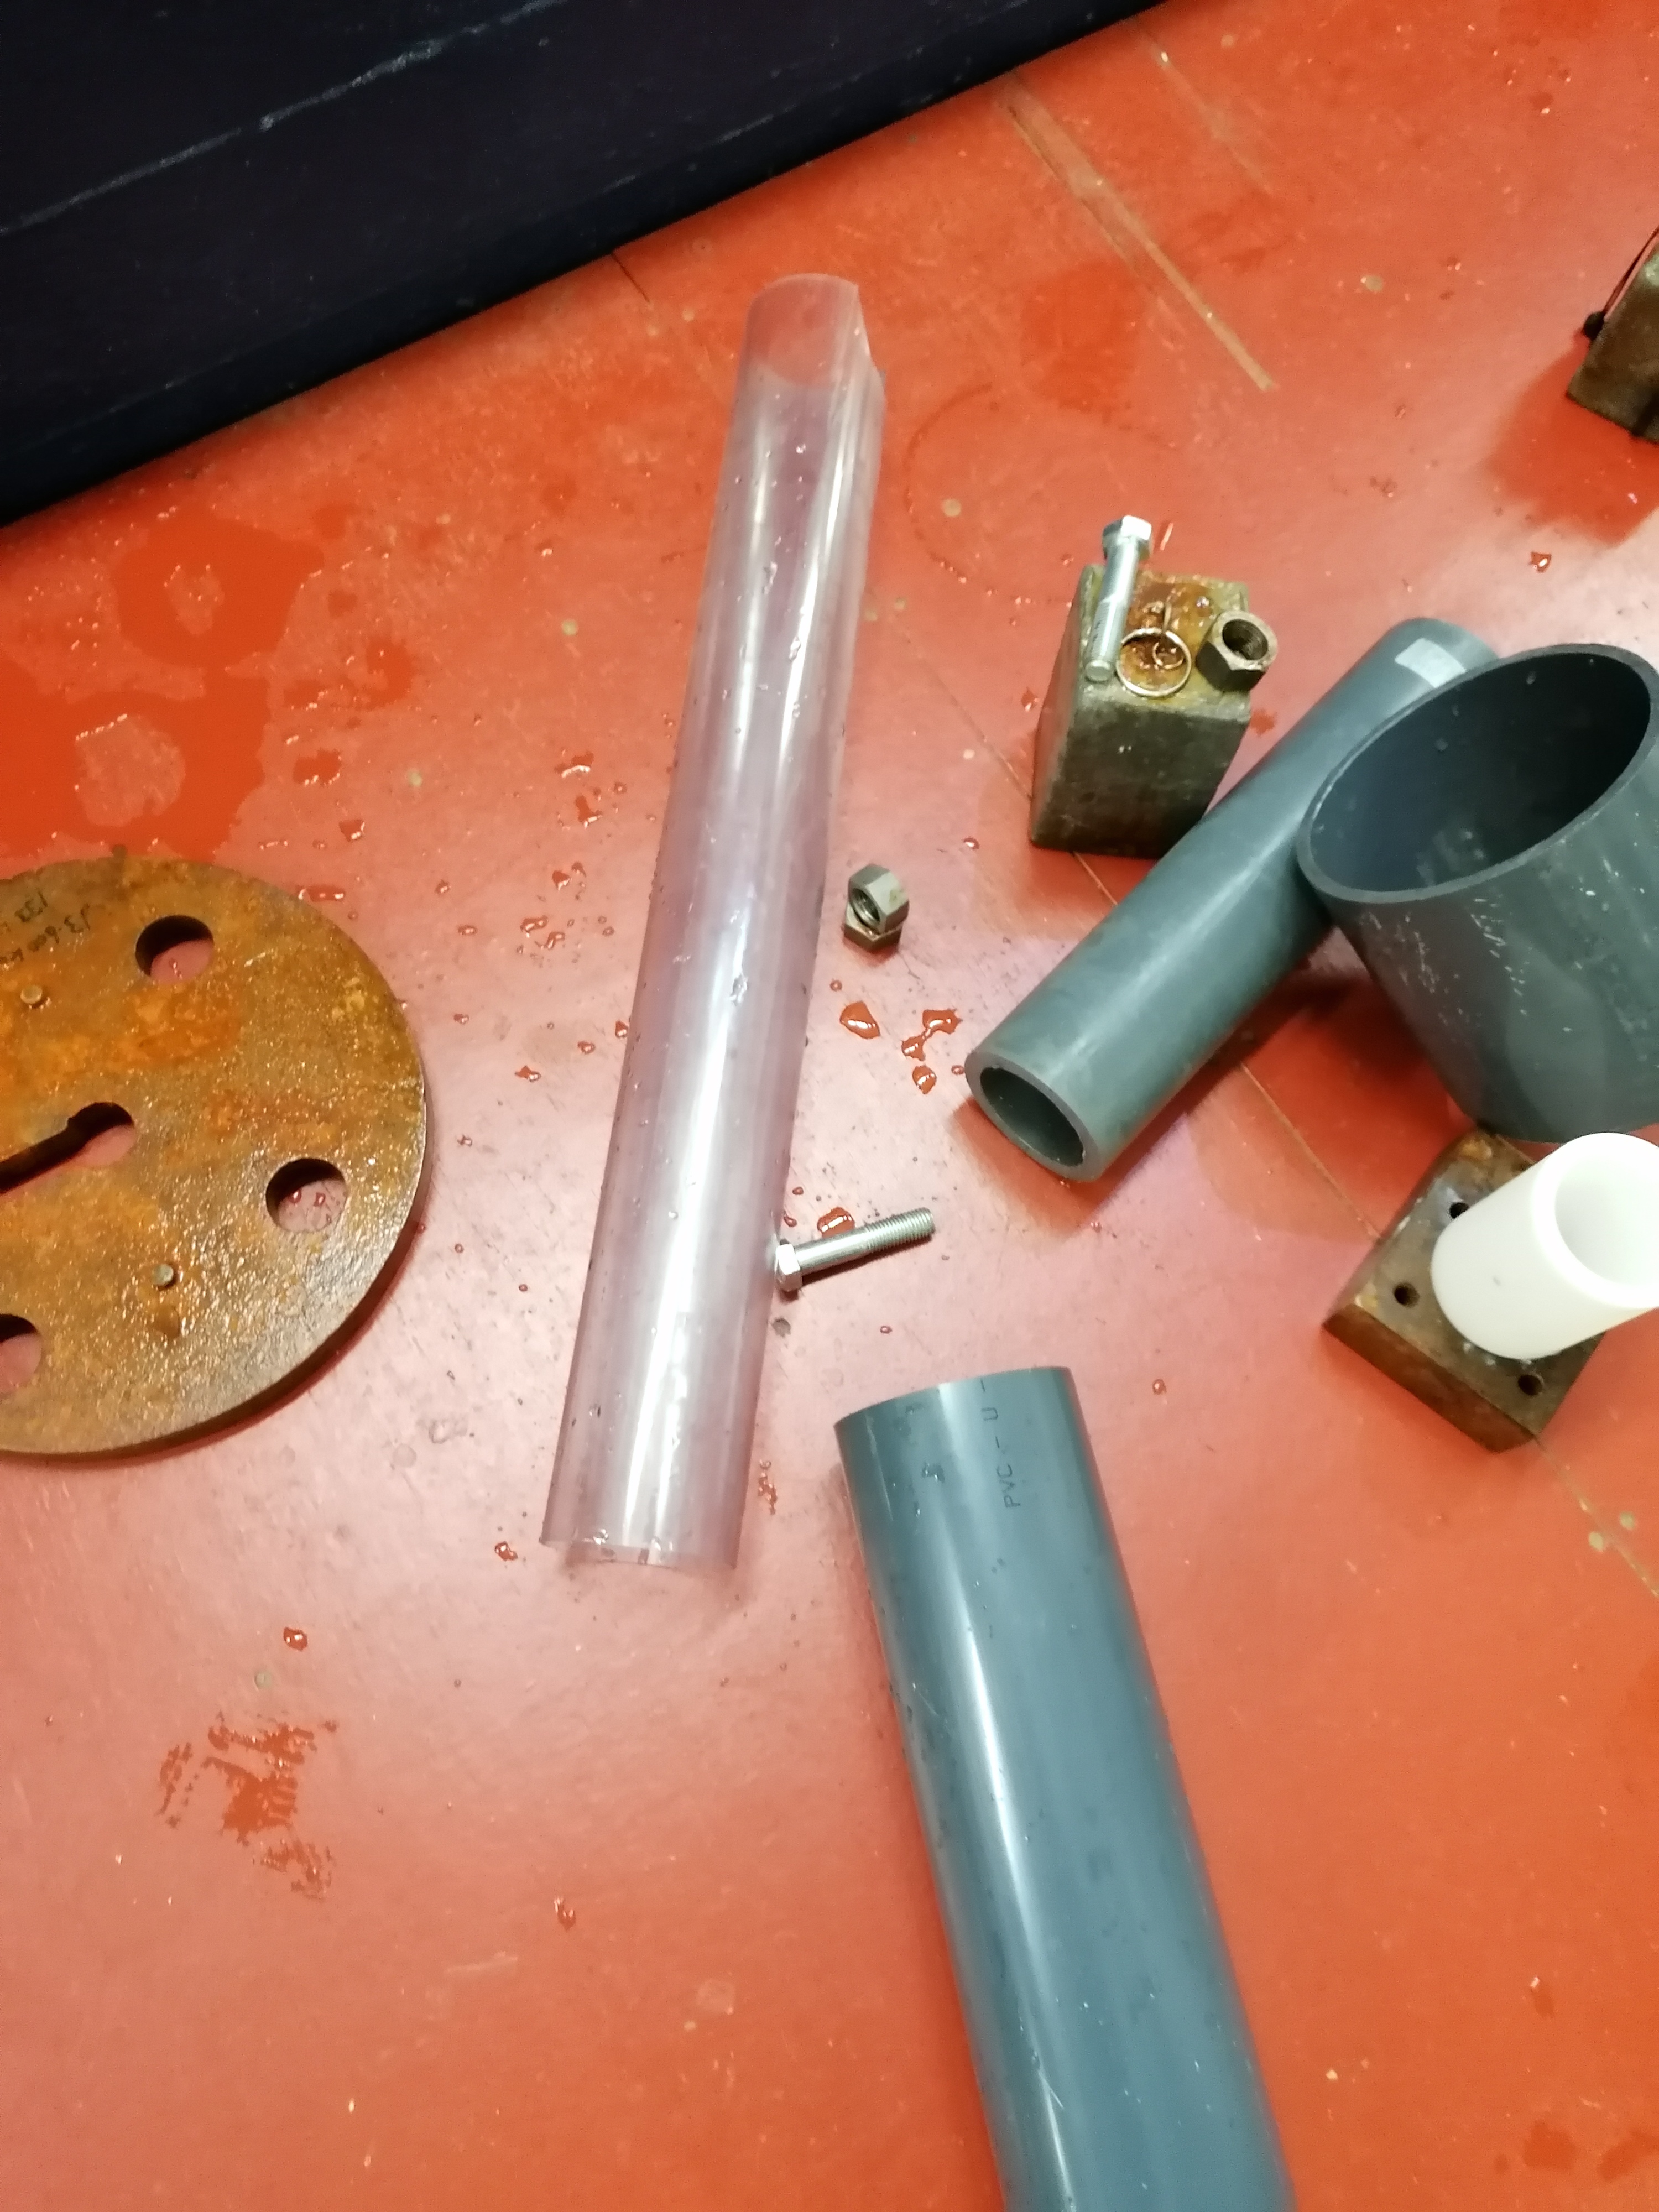bolt: (777, 1207, 936, 1299)
flange: (0, 853, 432, 1461)
led_block: (1323, 1132, 1600, 1454), (1028, 564, 1255, 859), (1563, 223, 1659, 451)
nut: (1195, 608, 1281, 691), (845, 860, 910, 934), (843, 907, 903, 949)
pipe: (538, 270, 884, 1578), (964, 618, 1499, 1183), (835, 1359, 1110, 2212), (1297, 643, 1659, 1141), (1431, 1132, 1659, 1360)
